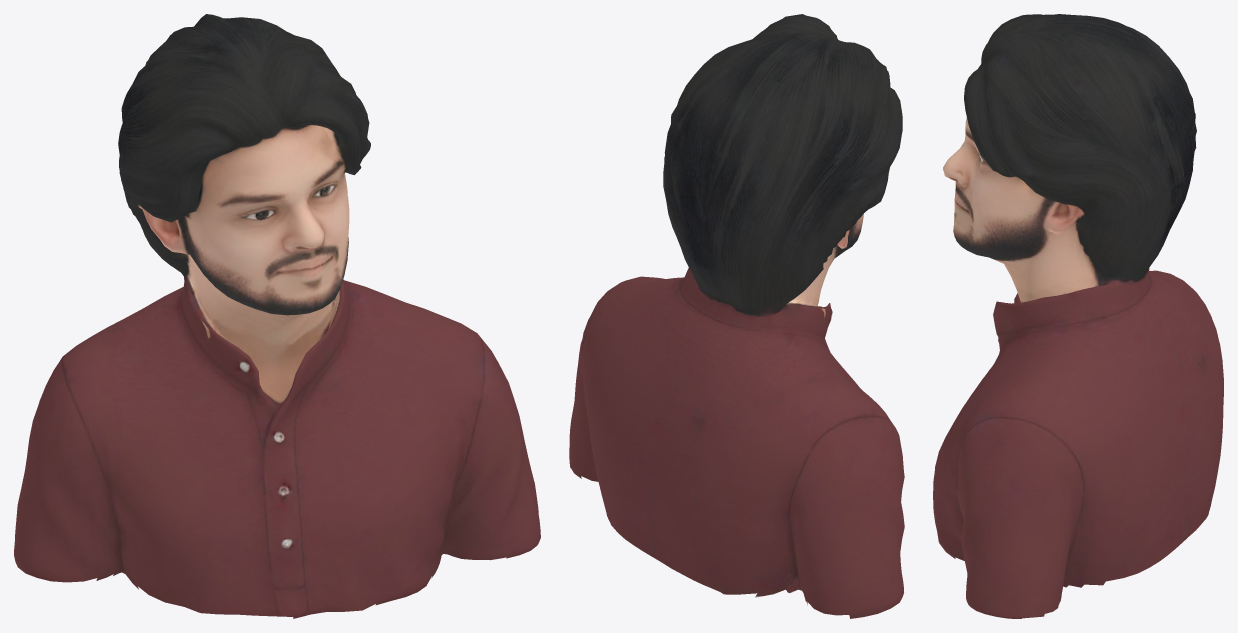
File: animated_akshay_cp.glb
3 views of the same model, side by side, from view 1: azimuth 30°, elevation 25°; view 2: azimuth 150°, elevation 25°; view 3: azimuth 270°, elevation 25° (orthographic). The views are drawn at different scales.
Parts seen in each view (by area): view 1: tripo_node_415cab02-8d75-4a72-8963-49ad67c993b0; view 2: tripo_node_415cab02-8d75-4a72-8963-49ad67c993b0; view 3: tripo_node_415cab02-8d75-4a72-8963-49ad67c993b0.
Boxes of the visible parts, x1=… form: tripo_node_415cab02-8d75-4a72-8963-49ad67c993b0: x1=14, y1=14, x2=540, y2=618; tripo_node_415cab02-8d75-4a72-8963-49ad67c993b0: x1=569, y1=14, x2=904, y2=618; tripo_node_415cab02-8d75-4a72-8963-49ad67c993b0: x1=933, y1=14, x2=1223, y2=618.
Bounding box in the file's own units: 0.7588 × 0.9234 × 0.4942.
1 material, 1 textured.
